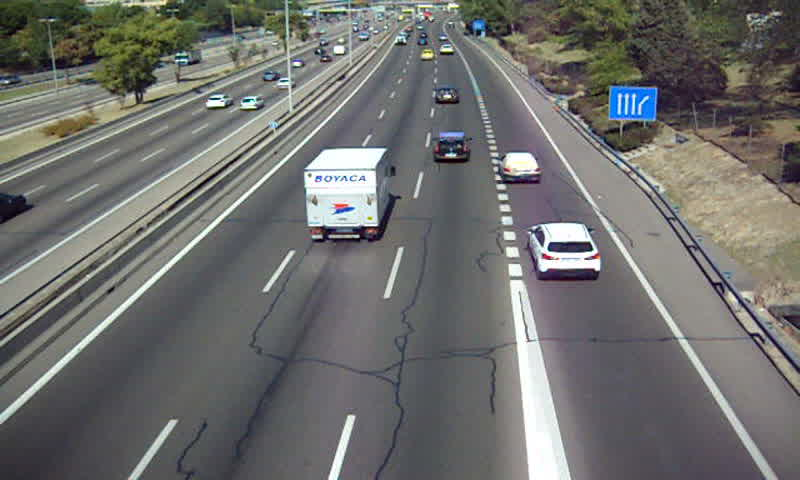car: (525, 221, 602, 279), (500, 152, 541, 182), (432, 132, 473, 162), (434, 86, 458, 105), (439, 43, 455, 55), (419, 48, 434, 59)
small-truck: (302, 148, 393, 243)
